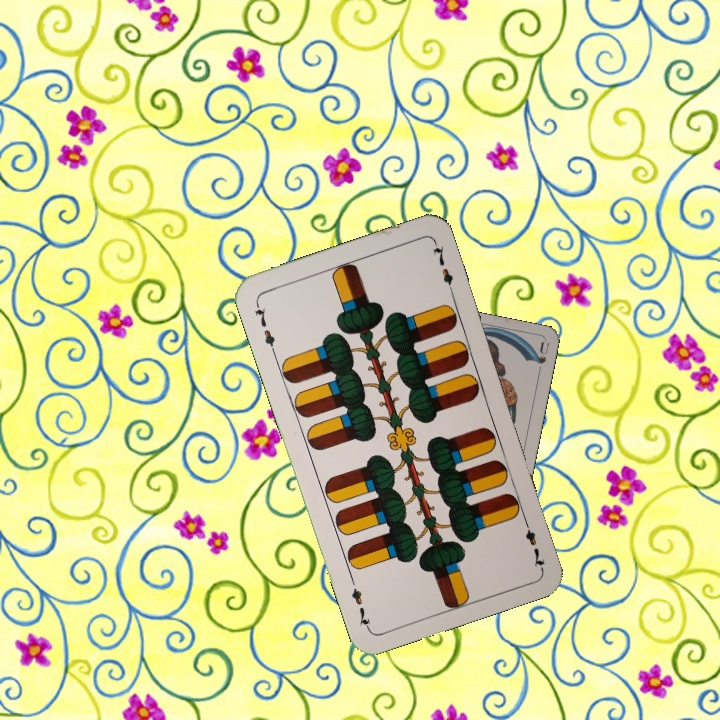E7: (250, 298, 278, 356), (519, 513, 547, 571)
